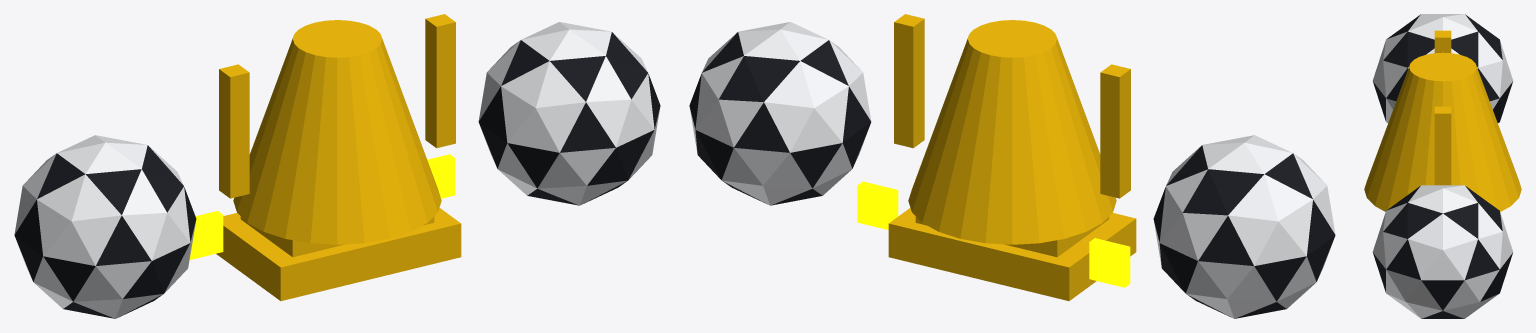
Rendered from Trophy_Crown.fbx.
3 renders of one model, left to right at view 1: azimuth 30°, elevation 25°; view 2: azimuth 150°, elevation 25°; view 3: azimuth 270°, elevation 25°, orthographic. The views are drawn at different scales.
Parts seen in each view (by area): view 1: CrownTrophy_Cup, Football_TopL, Football_TopR, CrownTrophy_Pedestal, CrownTrophy_Handle_L, CrownTrophy_Handle_R, CrownTrophy_Star_L, CrownTrophy_Star_R, CrownTrophy_Collar; view 2: CrownTrophy_Cup, Football_TopL, Football_TopR, CrownTrophy_Pedestal, CrownTrophy_Handle_L, CrownTrophy_Handle_R, CrownTrophy_Star_L, CrownTrophy_Star_R, CrownTrophy_Collar; view 3: Football_TopR, CrownTrophy_Cup, Football_TopL, CrownTrophy_Handle_R, CrownTrophy_Handle_L.
Boxes of the visible parts, x1,y1,x2,y2 form: CrownTrophy_Cup: (233, 20, 441, 244); Football_TopL: (14, 135, 196, 318); Football_TopR: (478, 22, 660, 205); CrownTrophy_Pedestal: (216, 208, 461, 300); CrownTrophy_Handle_L: (219, 64, 249, 198); CrownTrophy_Handle_R: (425, 14, 455, 148); CrownTrophy_Star_L: (189, 211, 223, 259); CrownTrophy_Star_R: (427, 154, 455, 198); CrownTrophy_Collar: (240, 216, 434, 257); CrownTrophy_Cup: (908, 20, 1116, 244); Football_TopL: (1153, 135, 1335, 318); Football_TopR: (689, 22, 871, 205); CrownTrophy_Pedestal: (888, 208, 1136, 300); CrownTrophy_Handle_L: (1100, 64, 1130, 198); CrownTrophy_Handle_R: (894, 14, 924, 148); CrownTrophy_Star_L: (1089, 238, 1130, 287); CrownTrophy_Star_R: (857, 181, 898, 229); CrownTrophy_Collar: (915, 216, 1109, 257); Football_TopR: (1372, 185, 1513, 318); CrownTrophy_Cup: (1364, 52, 1521, 211); Football_TopL: (1372, 14, 1513, 123); CrownTrophy_Handle_R: (1434, 106, 1451, 185); CrownTrophy_Handle_L: (1434, 30, 1451, 53).
Bounding box in the file's own units: 958 × 320 × 280.
